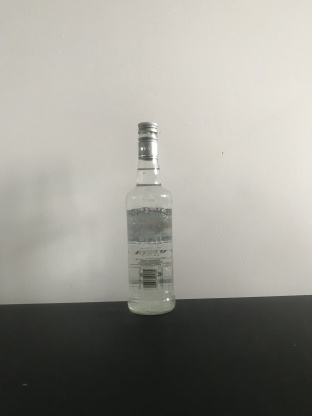nakretka: (136, 120, 159, 160)
